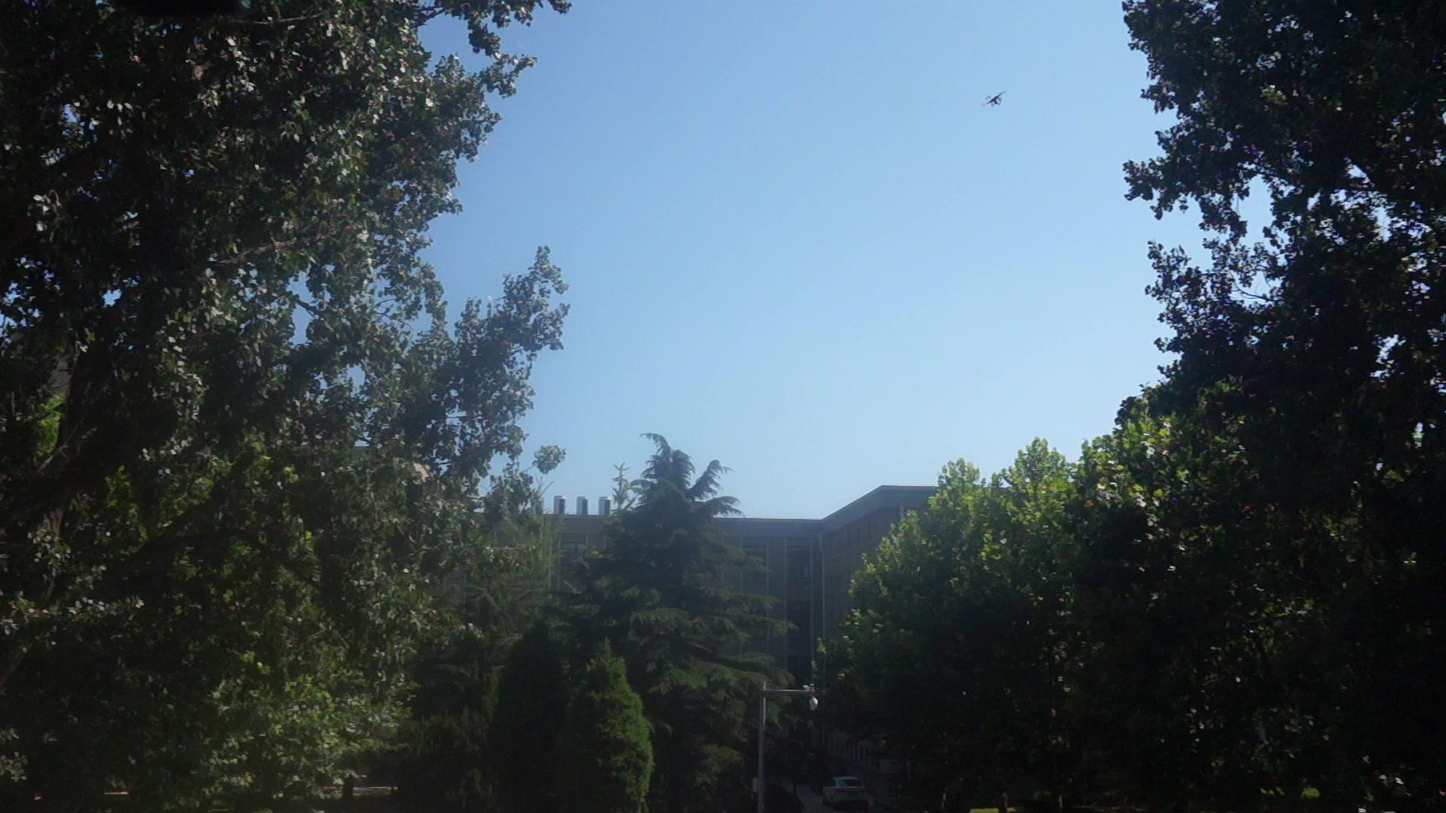UAV: (982, 92, 1007, 108)
